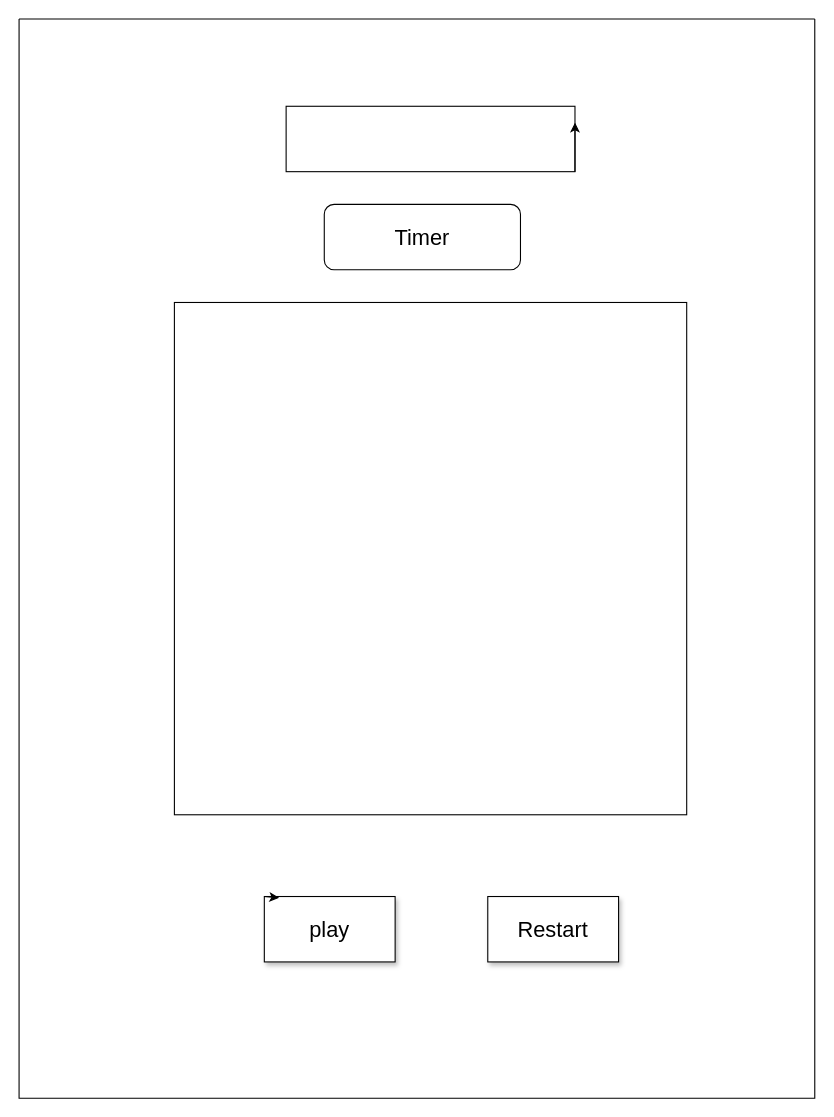
Image size: 834x1117. Some labels were removed from this diagram. The shapes that lost their labels are listed below. From the top down, each one's centre as x and y in pixels, then its label:
[430,138]: Soduko
[430,558]: Main Board
